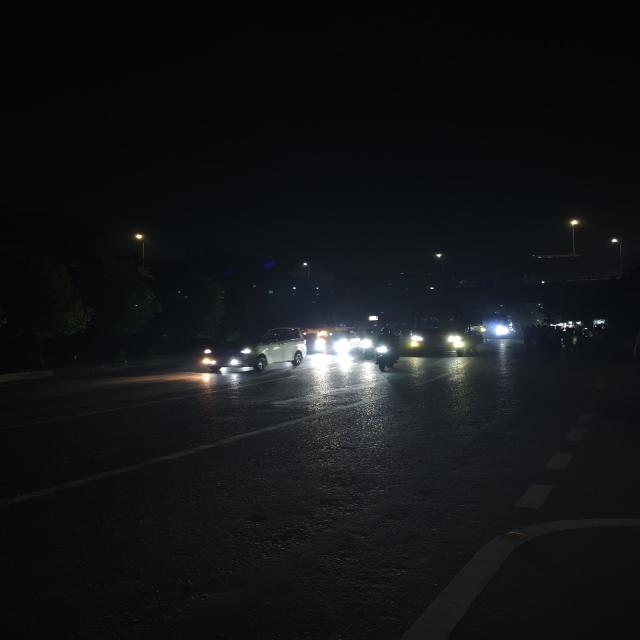bus: (408, 304, 486, 358), (482, 313, 516, 342)
car: (186, 322, 306, 374), (311, 328, 359, 358)
motorcycle: (371, 327, 403, 372), (359, 328, 375, 359)
